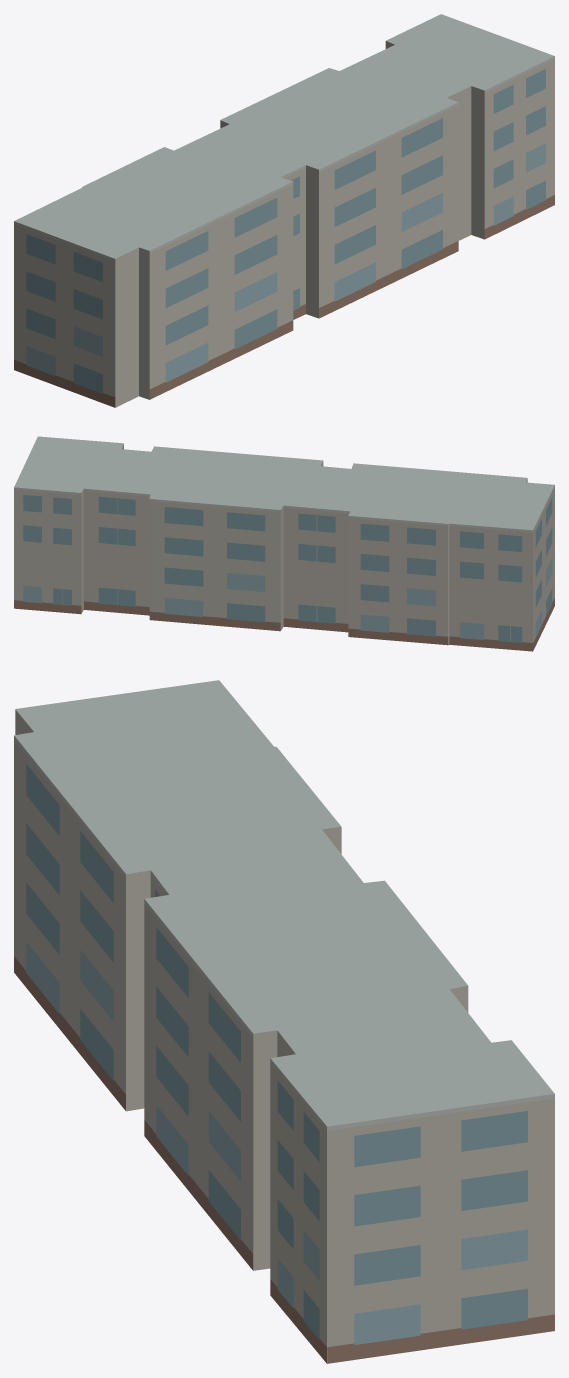
Rendered from survey-upis-32931332.glb.
3 renders of one model, top to bottom at view 1: azimuth 30°, elevation 25°; view 2: azimuth 150°, elevation 25°; view 3: azimuth 270°, elevation 25°, orthographic. The views are drawn at different scales.
Parts seen in each view (by area): view 1: survey-upis-32931332.tmp; view 2: survey-upis-32931332.tmp; view 3: survey-upis-32931332.tmp.
Part boxes in pixels (x1,y1,x2,y2): survey-upis-32931332.tmp: (14,14,554,407); survey-upis-32931332.tmp: (14,436,554,651); survey-upis-32931332.tmp: (14,680,554,1363).
Size of the model in its own units: 52.91 by 13.1 by 27.08.
